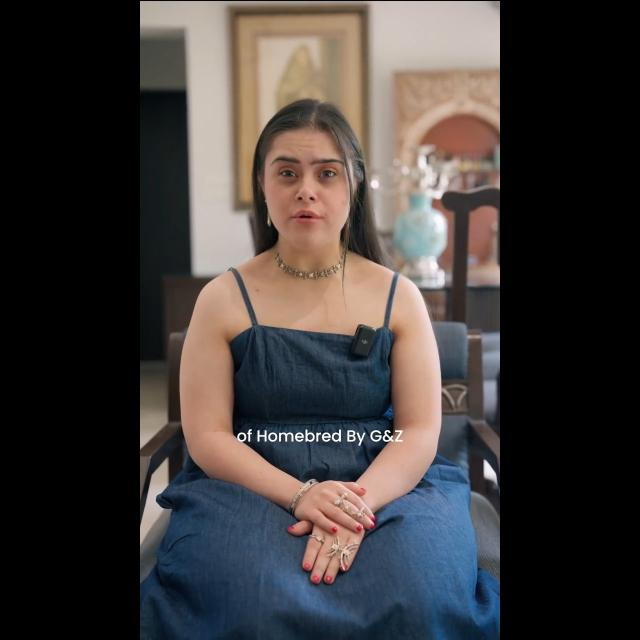dress: (178, 269, 460, 637)
